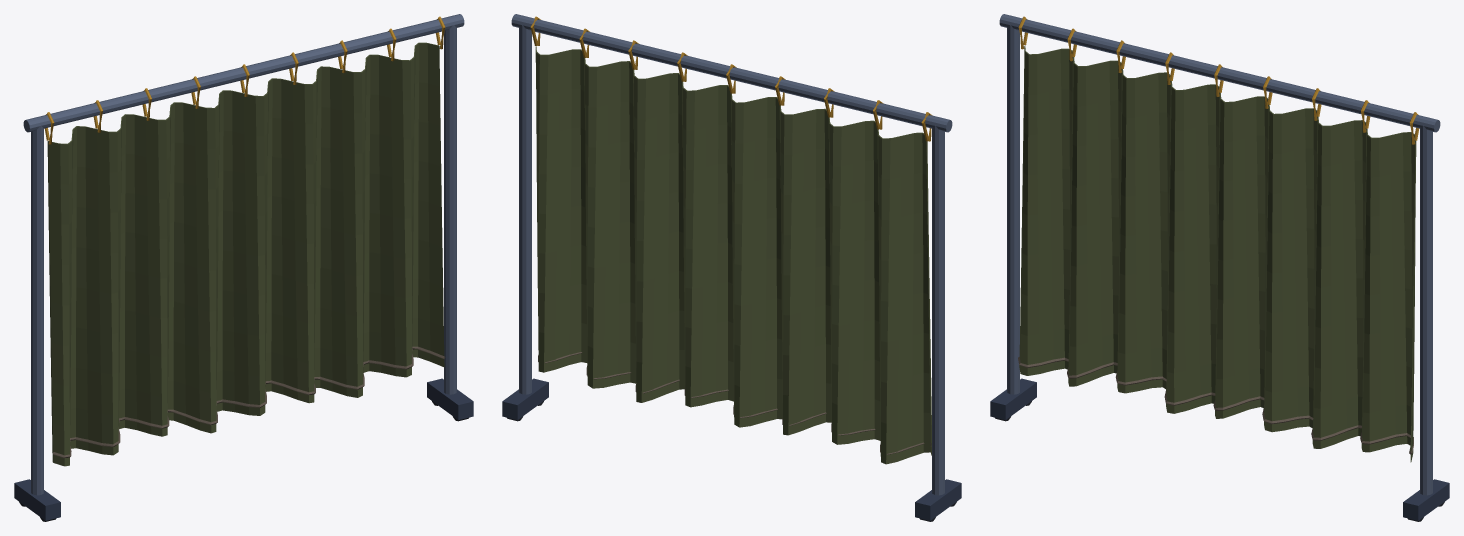
The model's file is bw_targ_curtain_screen.glb.
3 views of the same model, side by side, from view 1: azimuth 30°, elevation 25°; view 2: azimuth 150°, elevation 25°; view 3: azimuth 330°, elevation 25° (orthographic).
Visible parts, largest first — view 1: foot.004, foot.003, foot.001, foot, foot.005; view 2: foot.004, foot.003, foot.001, foot.005, foot; view 3: foot.004, foot.003, foot.001, foot, foot.005.
Boxes of the visible parts, left/top/right/bottom form: foot.004: left=47, top=42, right=444, bottom=466; foot.003: left=23, top=14, right=464, bottom=495; foot.001: left=14, top=378, right=473, bottom=520; foot: left=52, top=346, right=445, bottom=458; foot.005: left=44, top=16, right=445, bottom=144; foot.004: left=535, top=46, right=931, bottom=464; foot.003: left=511, top=14, right=952, bottom=495; foot.001: left=502, top=378, right=961, bottom=520; foot.005: left=530, top=16, right=932, bottom=141; foot: left=538, top=352, right=931, bottom=454; foot.004: left=1019, top=46, right=1416, bottom=462; foot.003: left=999, top=14, right=1440, bottom=495; foot.001: left=990, top=378, right=1449, bottom=520; foot: left=1018, top=357, right=1413, bottom=454; foot.005: left=1018, top=16, right=1419, bottom=144.
Size of the model in its own units: 2.4 by 2.1 by 0.3.
